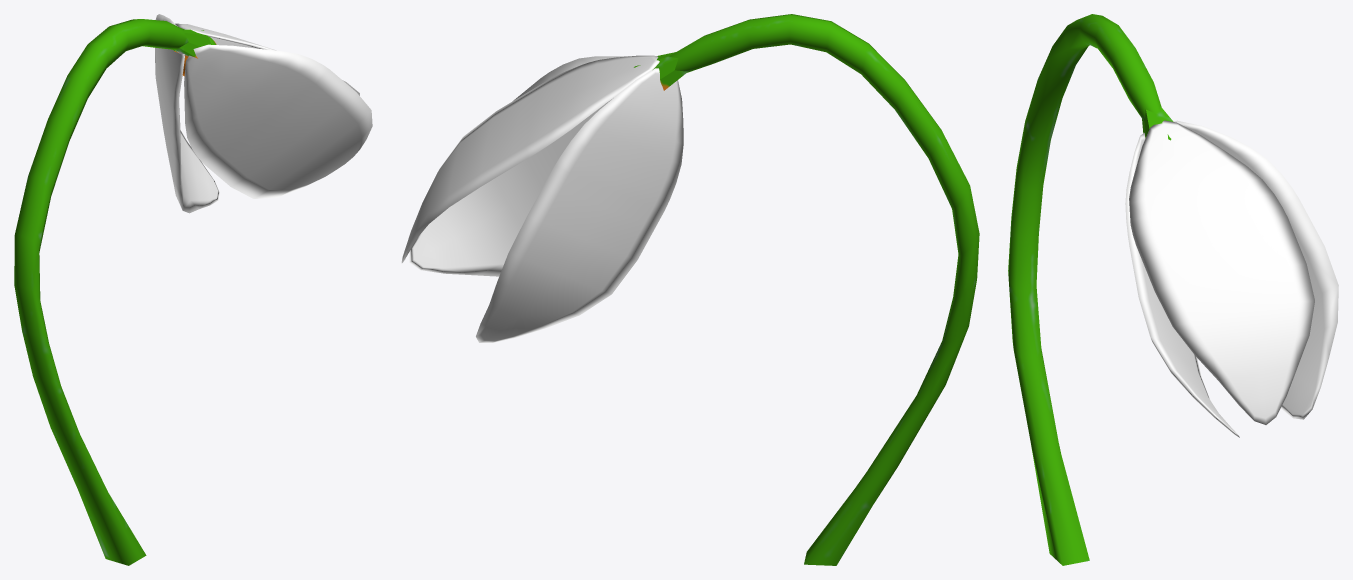
File: pumpkin1.fbx
3 renders of one model, left to right at view 1: azimuth 30°, elevation 25°; view 2: azimuth 150°, elevation 25°; view 3: azimuth 270°, elevation 25°, orthographic. The views are drawn at different scales.
Visible parts, largest first — view 1: pumpkin_st1; view 2: pumpkin_st1; view 3: pumpkin_st1.
Boxes of the visible parts, left/top/right/bottom form: pumpkin_st1: left=14, top=14, right=372, bottom=565; pumpkin_st1: left=401, top=14, right=979, bottom=565; pumpkin_st1: left=1008, top=14, right=1338, bottom=565.
Size of the model in its own units: 0.2393 by 0.2726 by 0.1517.
1 material, 1 textured.
